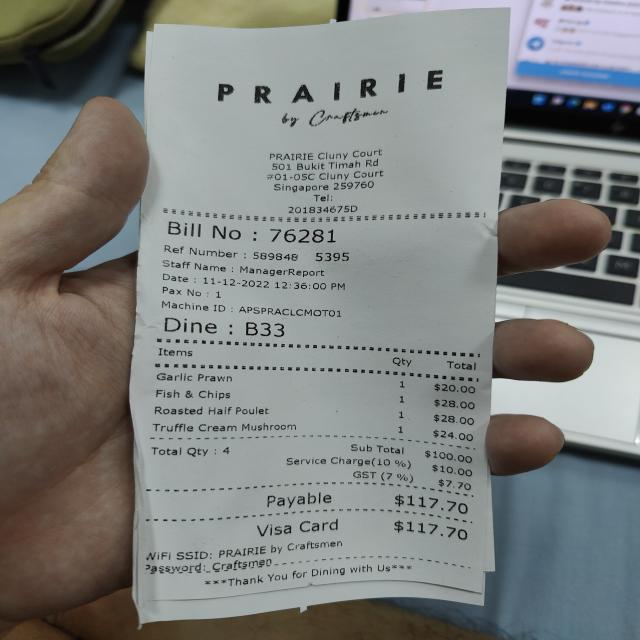bill_region: (138, 370, 486, 546)
